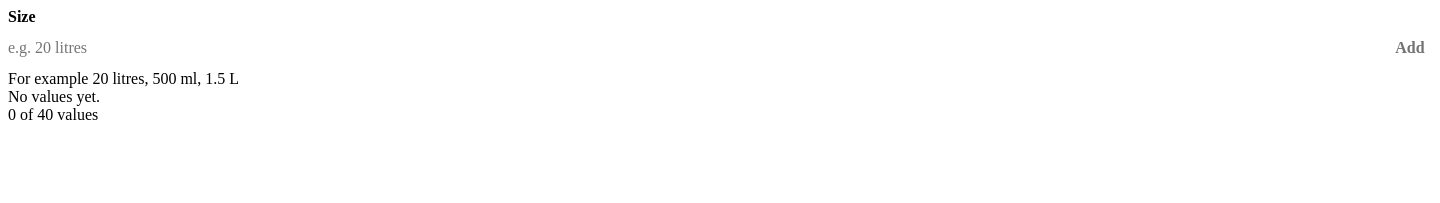
water (volume) › flags an unusual size without blocking
Type "500 L" into the field at (698, 48), box [8, 26, 1388, 70]
Then press Enter
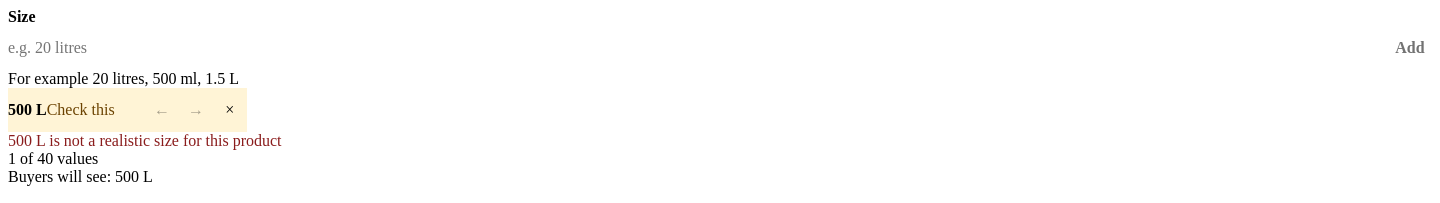
Check: the text "Check this" is shown, box [47, 101, 115, 118]
